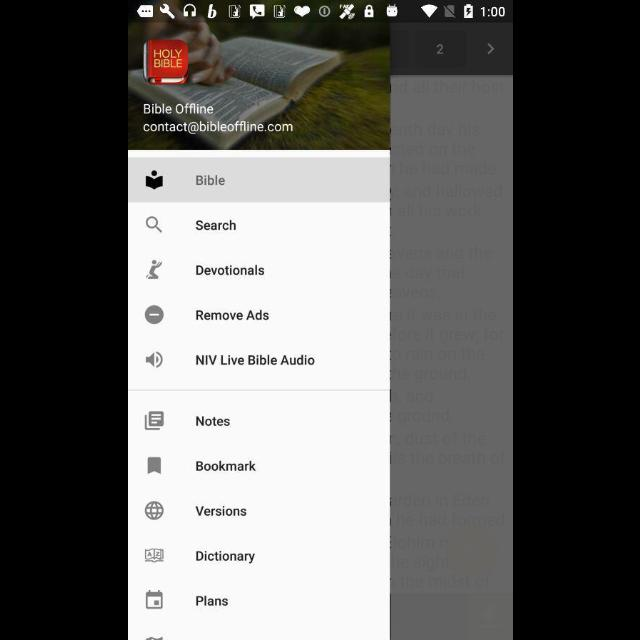icon: (144, 411, 164, 431), (144, 306, 164, 324), (145, 590, 163, 608), (145, 172, 163, 190), (146, 216, 162, 234), (144, 548, 164, 562), (147, 458, 161, 474)
image: (128, 23, 388, 150), (143, 40, 190, 86), (144, 501, 164, 521), (144, 260, 162, 280), (145, 352, 163, 368)
panel: (128, 24, 388, 640)
text: (144, 121, 292, 135), (196, 354, 314, 366), (196, 264, 264, 276), (196, 550, 254, 564), (143, 104, 213, 115), (196, 310, 268, 320), (196, 460, 256, 472), (195, 506, 247, 516), (194, 219, 236, 231), (194, 174, 226, 188), (195, 416, 229, 426), (196, 596, 228, 606)
uppertaskbar: (128, 1, 512, 23)
